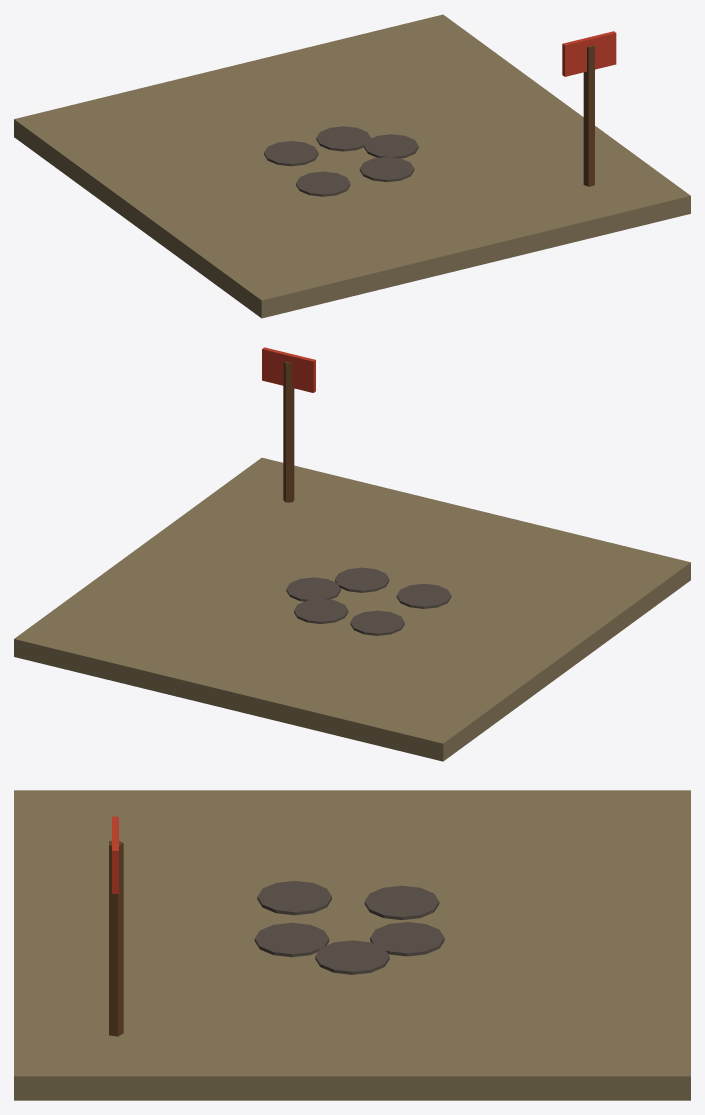
Rendered from Deposit_Oil_Depleted.fbx.
The picture shows the model from 3 angles, top to bottom: view 1: azimuth 30°, elevation 25°; view 2: azimuth 150°, elevation 25°; view 3: azimuth 270°, elevation 25°; orthographic projection. The views are drawn at different scales.
Visible parts, largest first — view 1: Deposit_Oil_Depleted_Body; view 2: Deposit_Oil_Depleted_Body; view 3: Deposit_Oil_Depleted_Body.
Part boxes in pixels (x1,y1,x2,y2): Deposit_Oil_Depleted_Body: [14, 14, 690, 318]; Deposit_Oil_Depleted_Body: [14, 347, 690, 761]; Deposit_Oil_Depleted_Body: [14, 790, 690, 1100].
Size of the model in its own units: 1 by 0.365 by 1.
